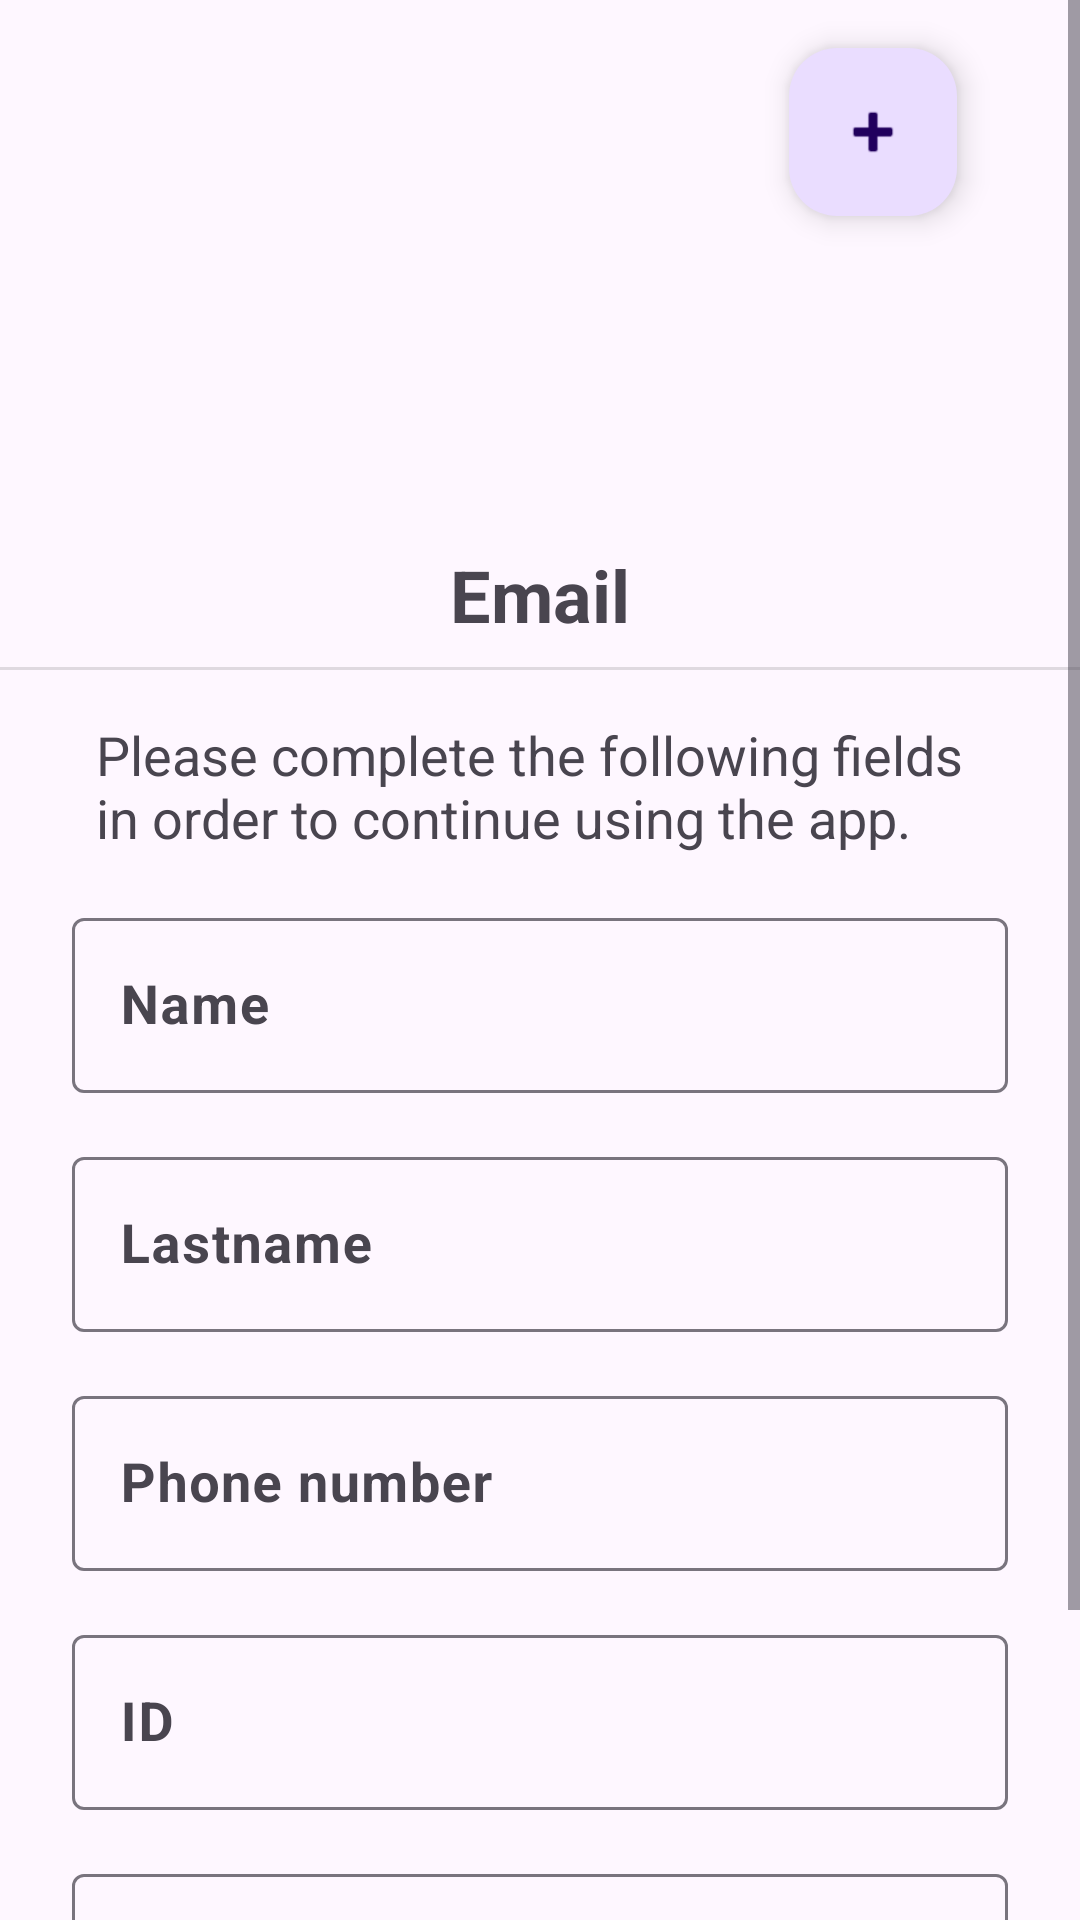

Screen size 1080 × 1920. Icon name, then its box in pixels as (left=x1, top=y1, right=x2, bottom=y2):
Add a profile picture: (left=789, top=48, right=957, bottom=216)
